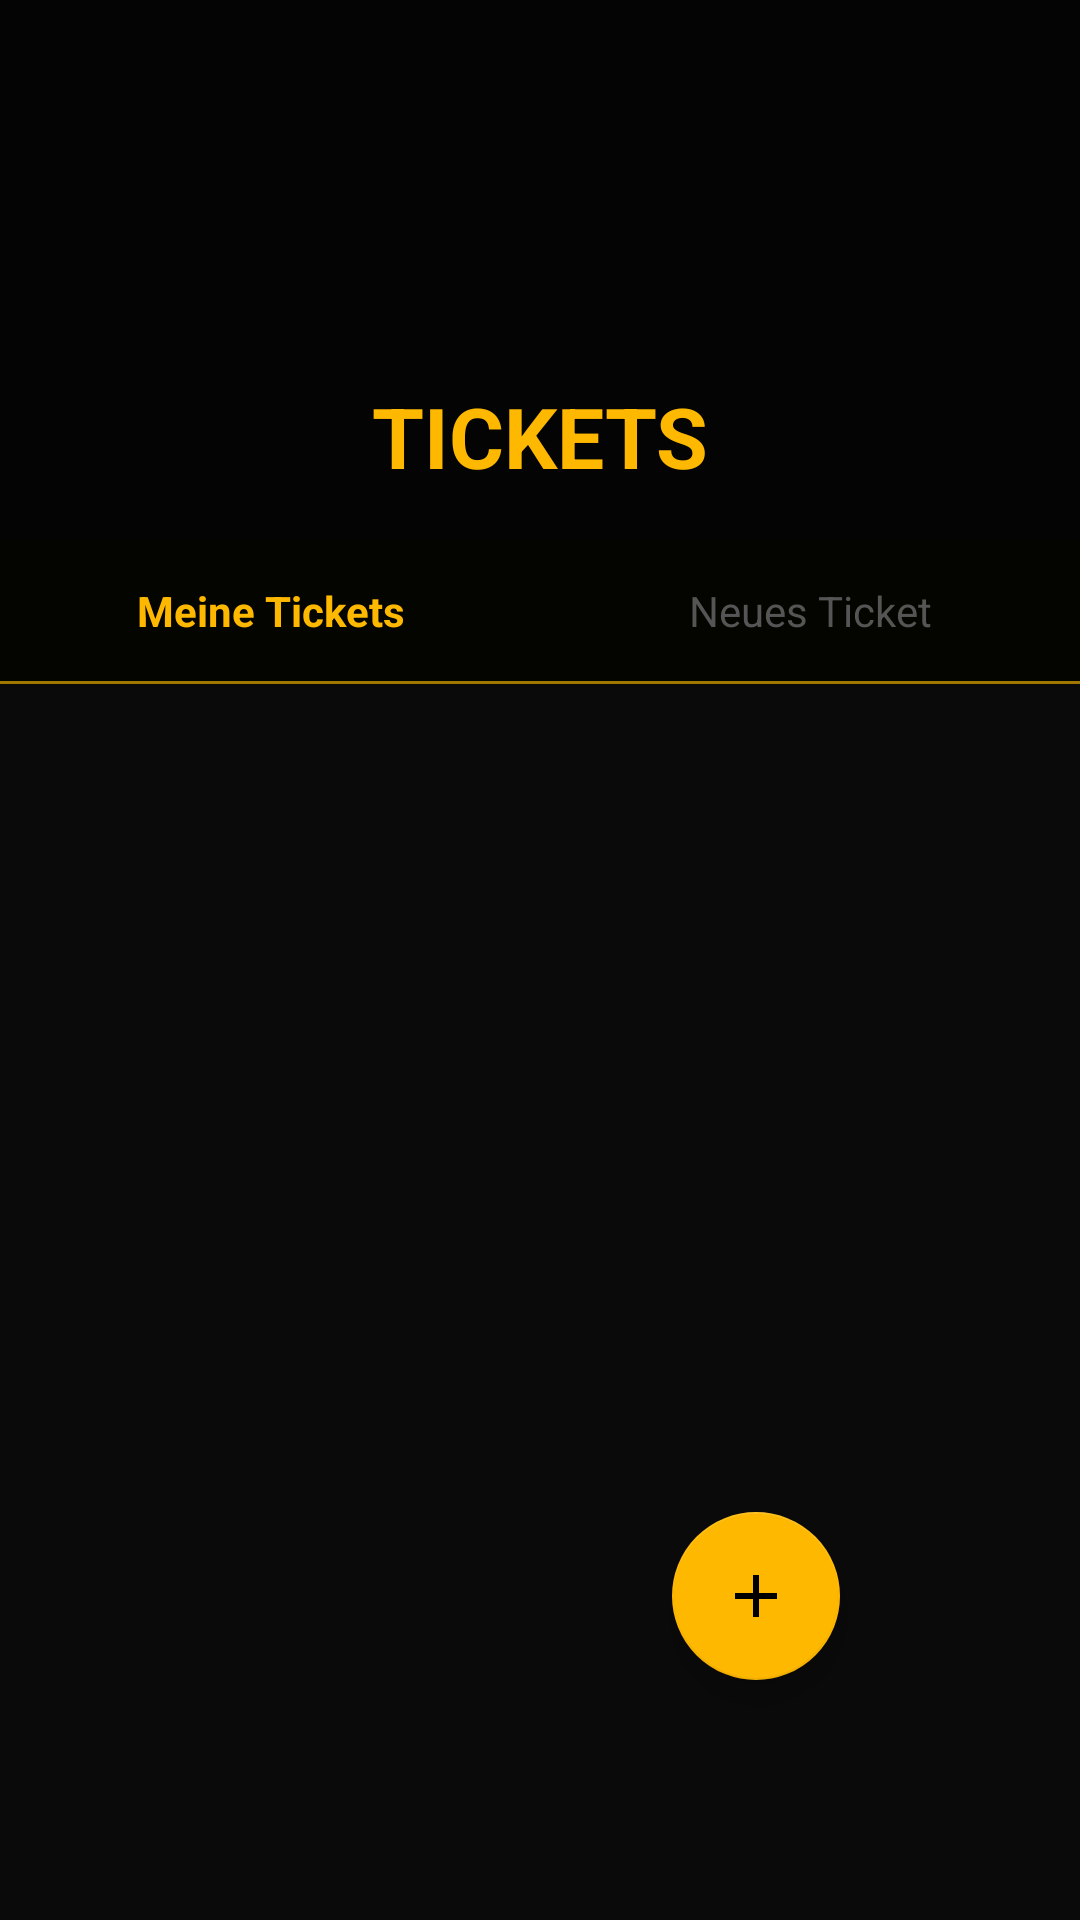

Where to tap for icons on this 1080px x 1920px app screen, as point (x, y):
Neues Ticket: point (756, 1596)
